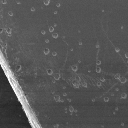corrosion: (119, 74, 128, 84), (52, 93, 61, 102), (14, 64, 23, 72), (43, 47, 50, 56), (48, 25, 55, 33), (46, 68, 53, 76), (71, 64, 78, 72), (5, 28, 13, 35), (103, 95, 110, 103), (95, 66, 102, 73), (114, 46, 121, 53), (42, 1, 51, 6), (7, 10, 13, 17), (52, 33, 59, 39), (95, 59, 102, 65), (40, 29, 46, 35), (44, 38, 50, 44), (52, 51, 58, 57), (30, 6, 35, 11), (78, 41, 83, 46)
